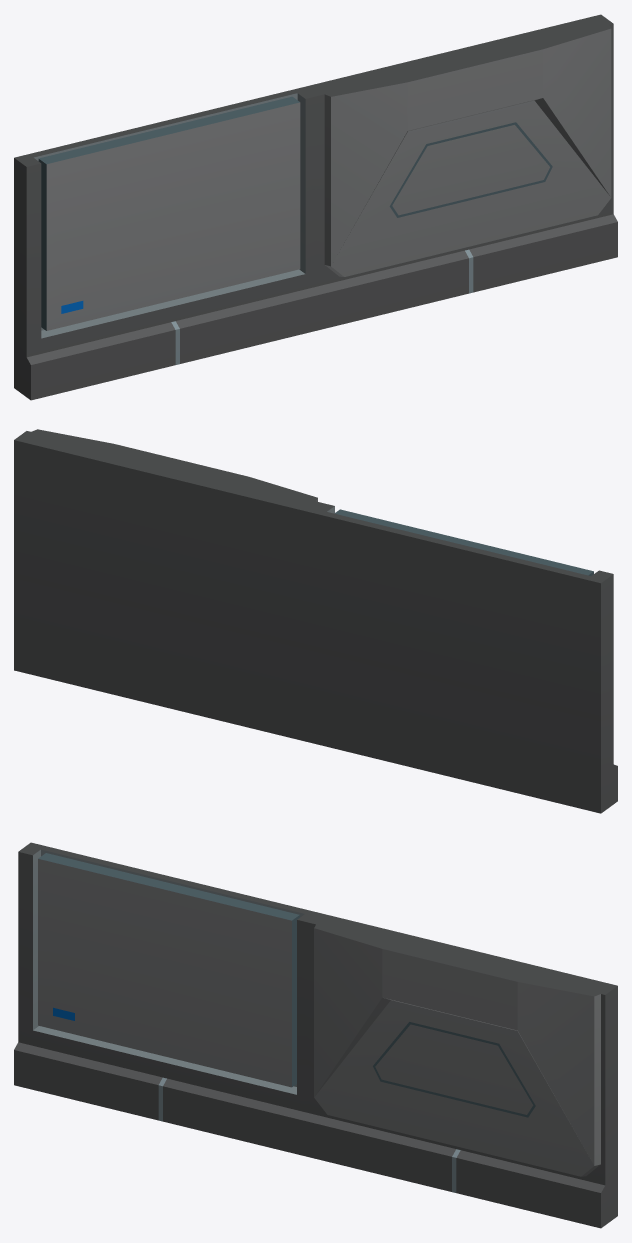
File: Wall_type_B_033.fbx
3 views of the same model, one above another, from view 1: azimuth 30°, elevation 25°; view 2: azimuth 150°, elevation 25°; view 3: azimuth 330°, elevation 25° (orthographic).
Visible parts, largest first — view 1: Wall_type_B_033; view 2: Wall_type_B_033; view 3: Wall_type_B_033.
Boxes of the visible parts, <box> form: Wall_type_B_033: <box>14,14,617,400</box>; Wall_type_B_033: <box>14,429,617,813</box>; Wall_type_B_033: <box>14,842,617,1228</box>.
Size of the model in its own units: 400 by 25 by 150.
